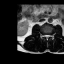CCS_normal: (46, 32, 48, 41)
LFS_normal: (49, 32, 52, 39)
LLS_normal: (48, 32, 49, 39)
RFS_normal: (42, 32, 44, 38)
RLS_normal: (44, 32, 46, 39)
